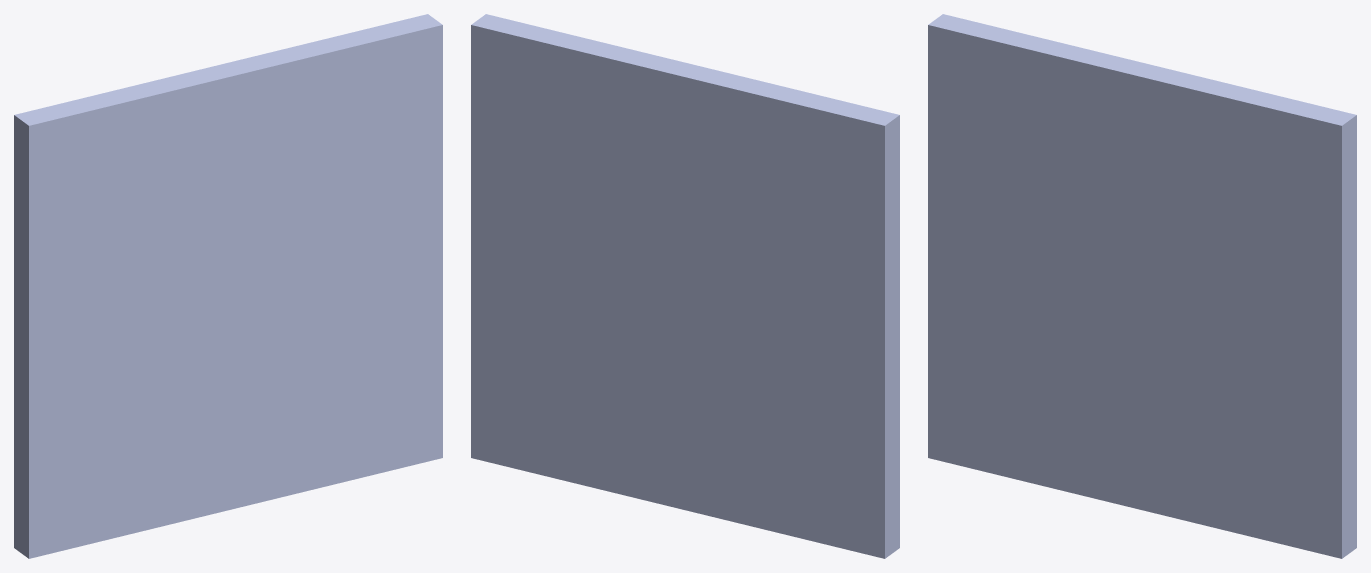
The picture shows the model from 3 angles, left to right: view 1: azimuth 30°, elevation 25°; view 2: azimuth 150°, elevation 25°; view 3: azimuth 330°, elevation 25°; orthographic projection.
Bounding box in the file's own units: 16 × 16 × 1.
